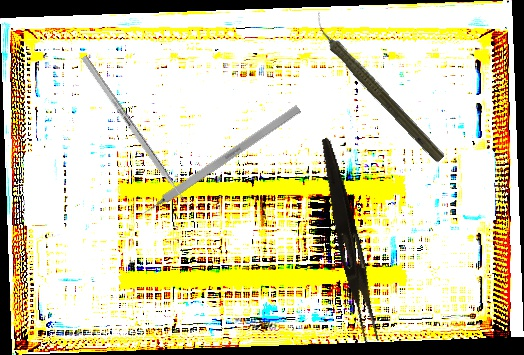Dressing Forceps: (310, 136, 387, 345)
Handpiece: (303, 10, 451, 166)
Hook Surgical: (130, 104, 302, 225)
Pusher: (80, 55, 198, 218)
